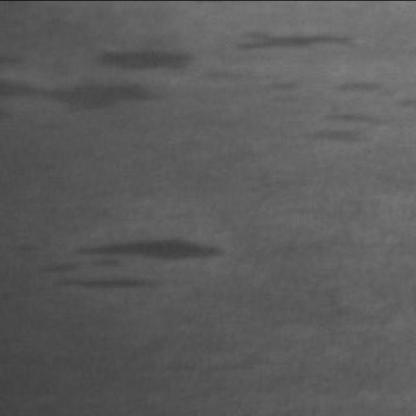inclusion: (42, 226, 226, 298), (0, 71, 175, 123), (293, 71, 397, 147), (227, 13, 362, 56), (88, 31, 196, 75)
